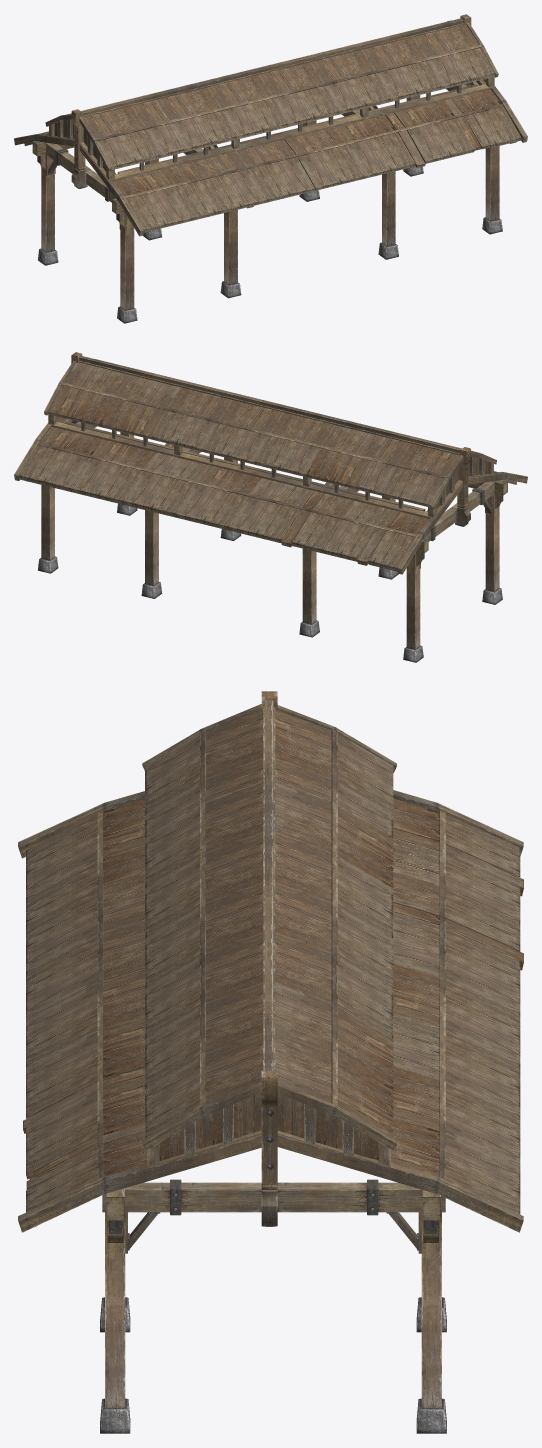
The model's file is Tower9-1.fbx.
3 renders of one model, top to bottom at view 1: azimuth 30°, elevation 25°; view 2: azimuth 150°, elevation 25°; view 3: azimuth 270°, elevation 25°, orthographic. The views are drawn at different scales.
Parts seen in each view (by area): view 1: LV_M5_Port_Warehouse02_SM_KHJ; view 2: LV_M5_Port_Warehouse02_SM_KHJ; view 3: LV_M5_Port_Warehouse02_SM_KHJ.
Part boxes in pixels (box(x1,y1,x2,y2)): LV_M5_Port_Warehouse02_SM_KHJ: box(14, 14, 527, 323); LV_M5_Port_Warehouse02_SM_KHJ: box(14, 352, 527, 662); LV_M5_Port_Warehouse02_SM_KHJ: box(18, 691, 523, 1433).
Size of the model in its own units: 5.45 by 2.4 by 3.02.
Materials: 1 (1 with a texture image).
